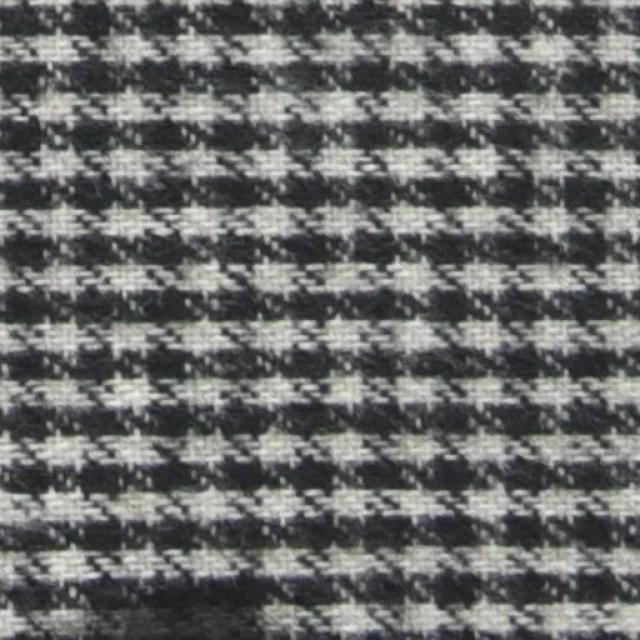Stain: (81, 554, 302, 639)
